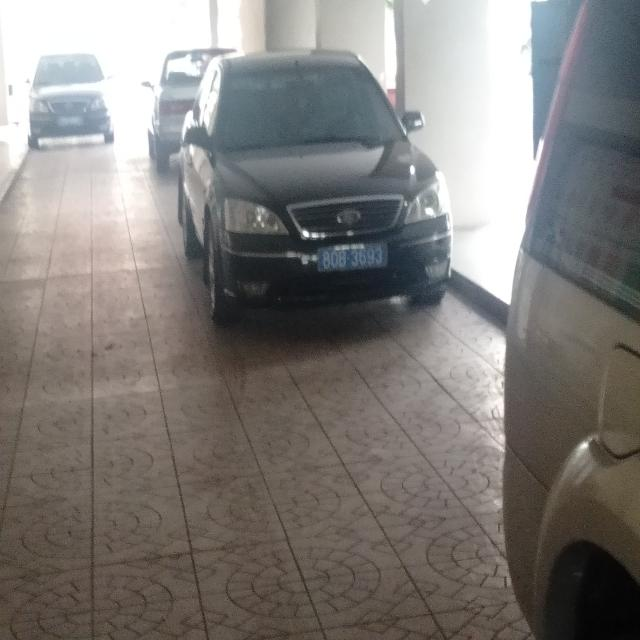bien_xanh: (316, 244, 391, 271)
